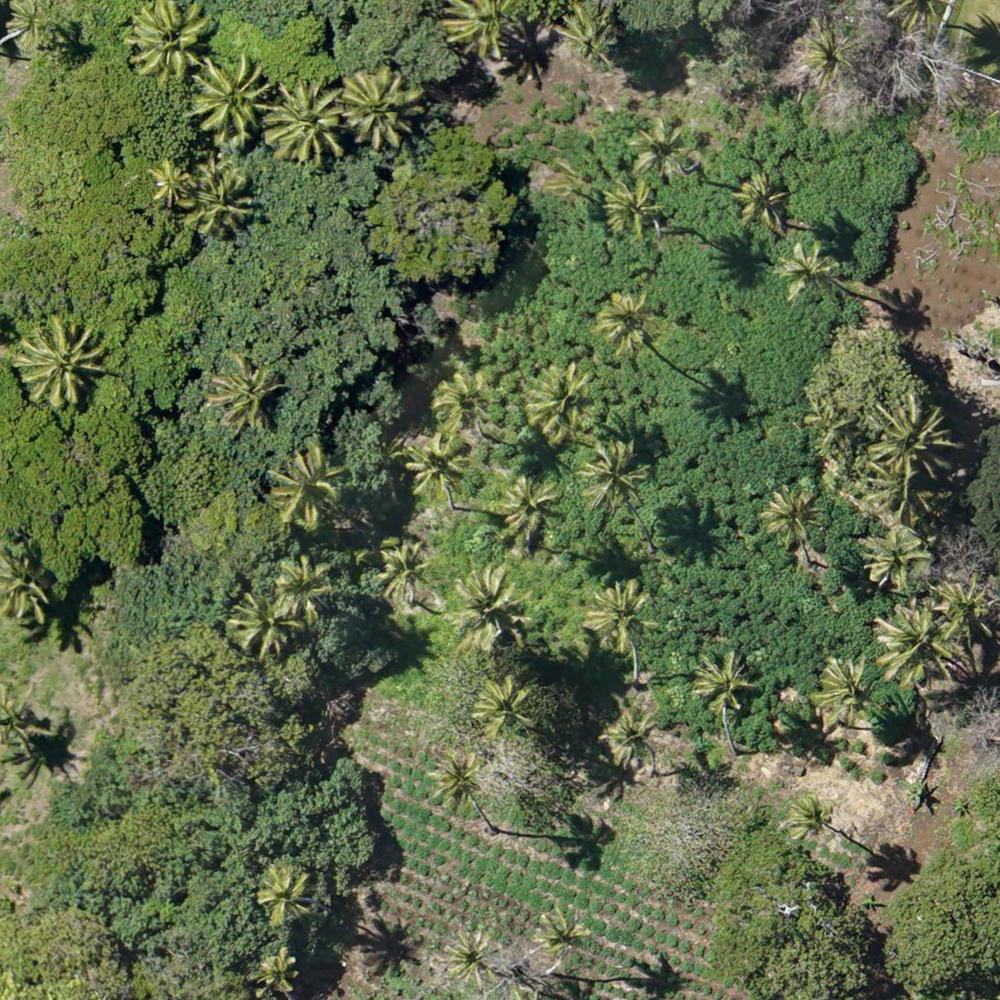Palm: (13, 315, 109, 409), (871, 601, 964, 688), (263, 79, 349, 165), (865, 395, 951, 480), (451, 568, 536, 651), (338, 69, 421, 147), (126, 4, 212, 79), (188, 58, 266, 136), (270, 455, 349, 527), (212, 352, 285, 429), (523, 368, 596, 442), (579, 445, 653, 514), (863, 522, 936, 589), (625, 110, 698, 175), (585, 580, 654, 646), (470, 680, 538, 744), (591, 290, 659, 354), (812, 652, 875, 721), (228, 592, 298, 654), (554, 2, 618, 67), (500, 476, 563, 541), (764, 486, 826, 550), (432, 371, 497, 430), (276, 557, 335, 621), (374, 538, 429, 606), (691, 650, 755, 708), (800, 23, 855, 89), (776, 242, 836, 302), (426, 747, 484, 809), (442, 925, 498, 989), (407, 435, 469, 492), (603, 180, 664, 235), (254, 867, 311, 922), (531, 907, 589, 961), (733, 174, 791, 228), (603, 710, 656, 767), (787, 792, 838, 841), (259, 946, 300, 991), (146, 160, 187, 199)
